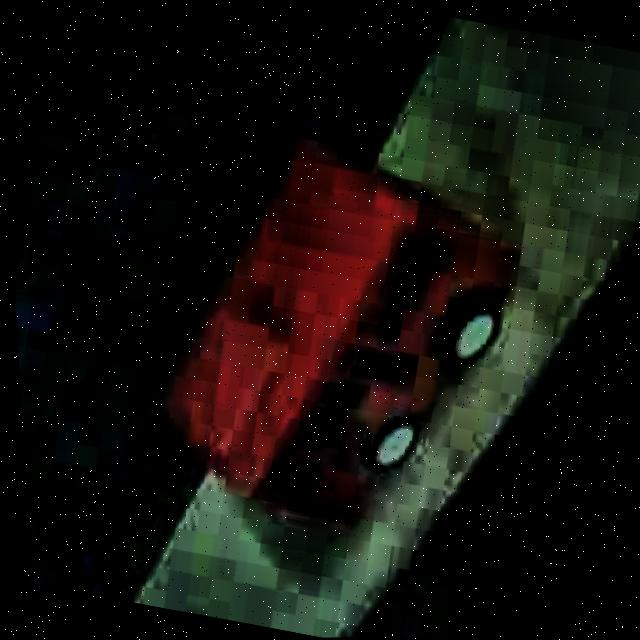bus: (126, 111, 557, 554)
